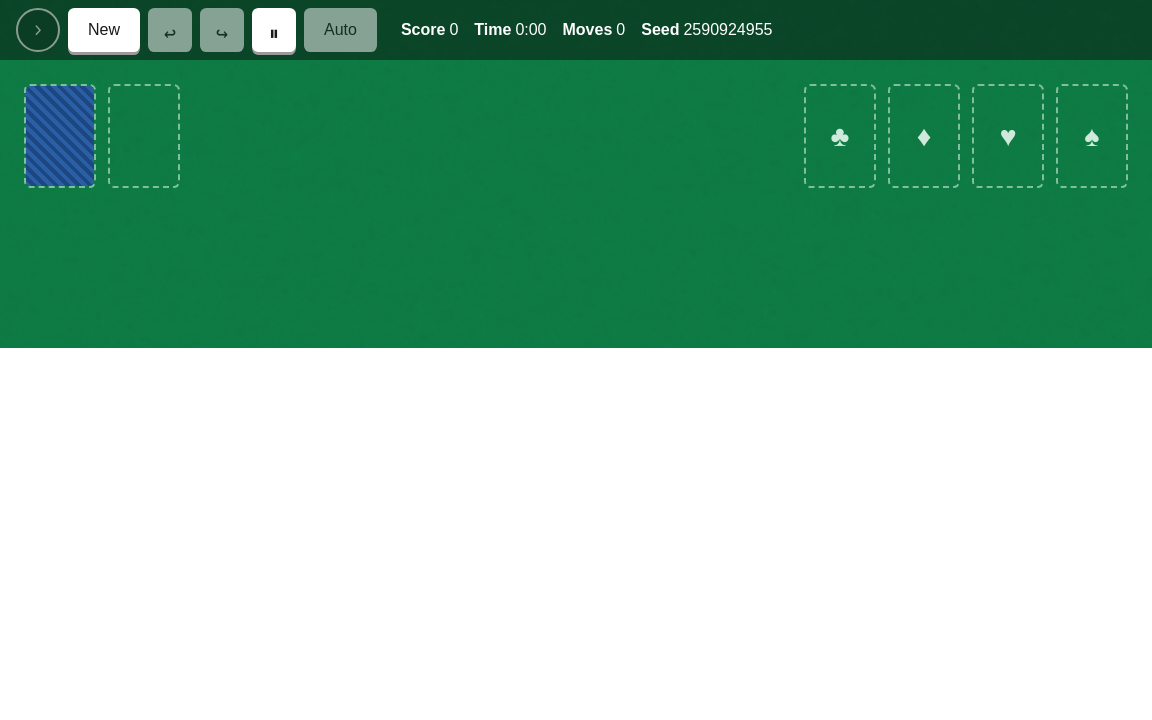
Test case: GameView modal integration › opens Seed via the PC sidebar panel
Step 1. Click the button named "サイドバーを開く" → (38, 30), box [16,8,60,52]
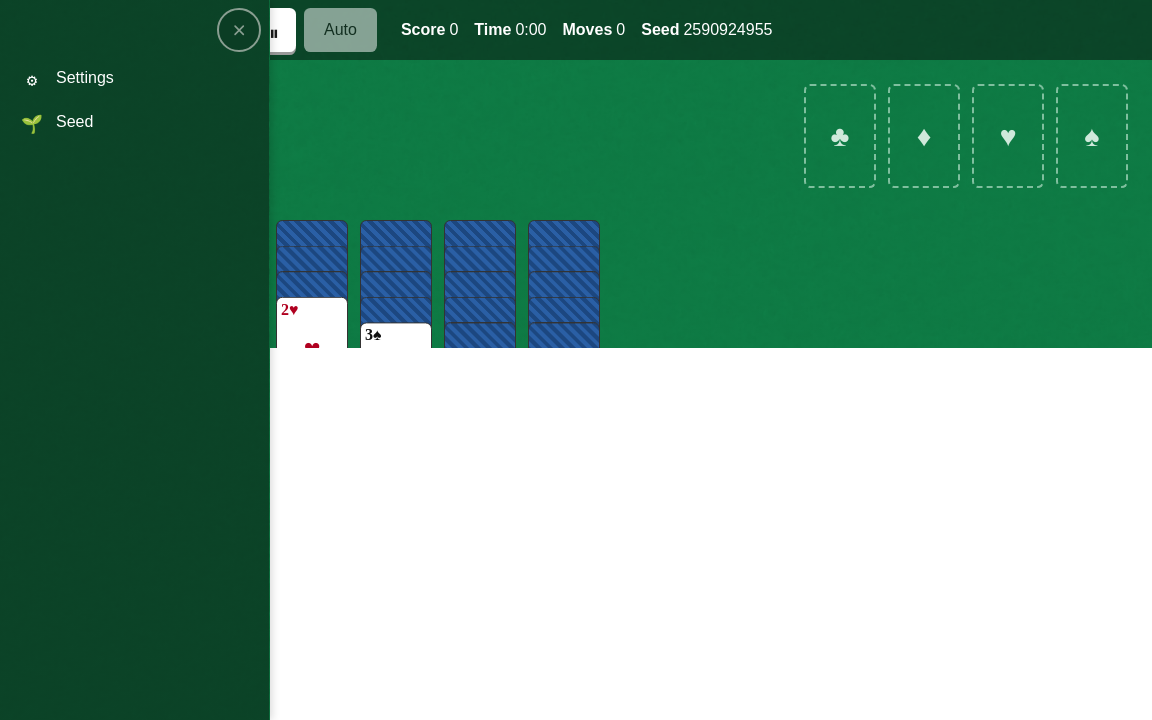
Step 2. Click the button with aria-label "Seed" → (75, 122), box [0,100,269,144]
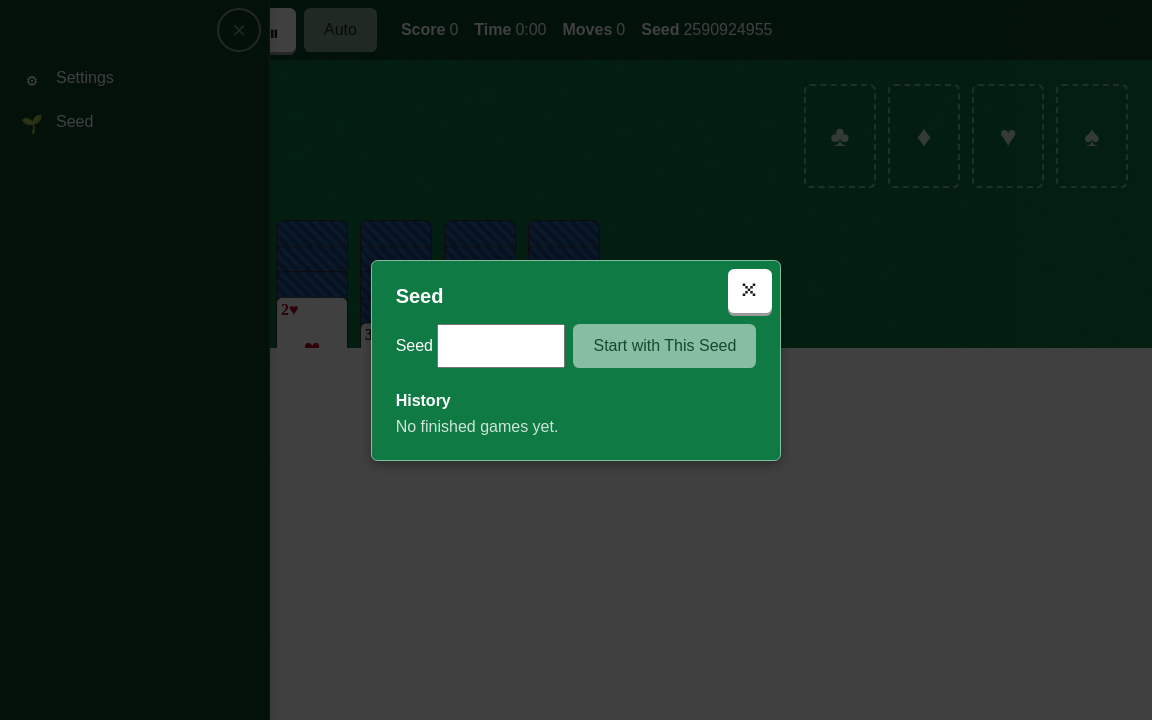
Result: the dialog named "Seed" is shown
